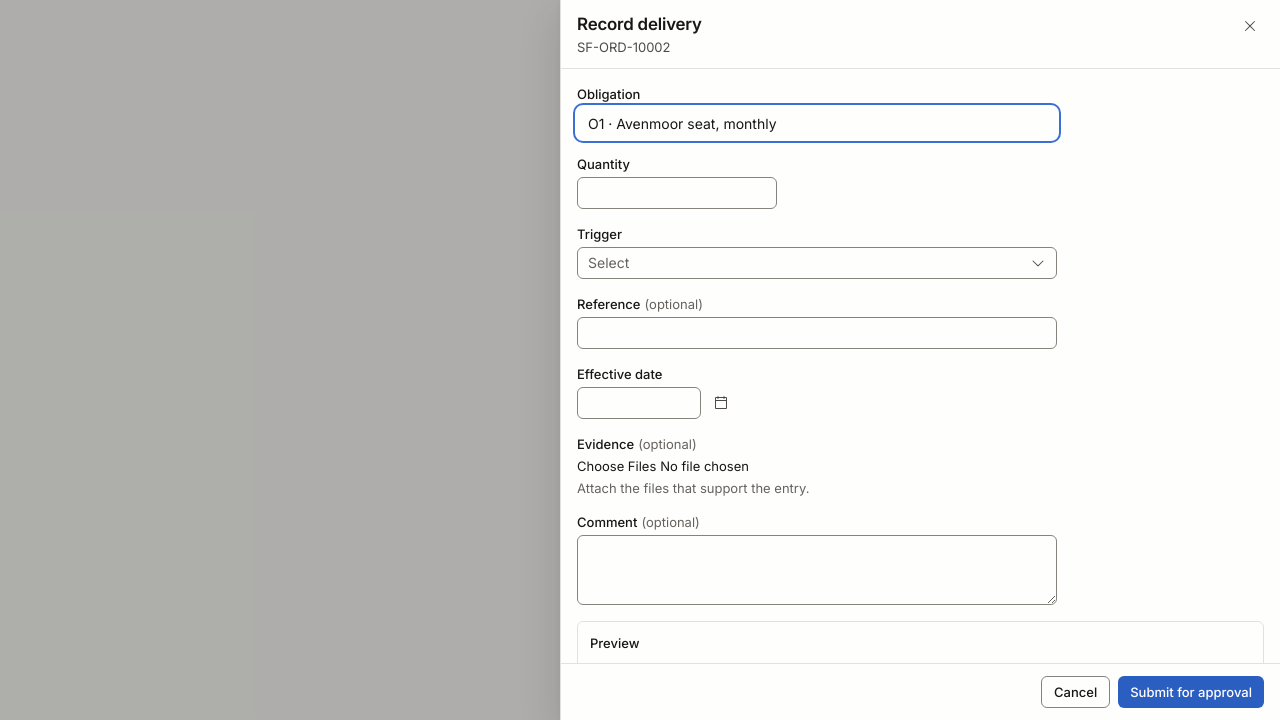
Test case: SF-03 Record event: what the preview panel says of its dry run › Retry asks for the preview of the same fields again under a new key, and the figures of the new dry run take the banner's place
Check: the element "Preview" reads "Preview The preview appears once the fields are valid.", box [577, 621, 1264, 663]
Type "120" into the field labelled "Quantity" at (677, 193), box [577, 177, 777, 209]
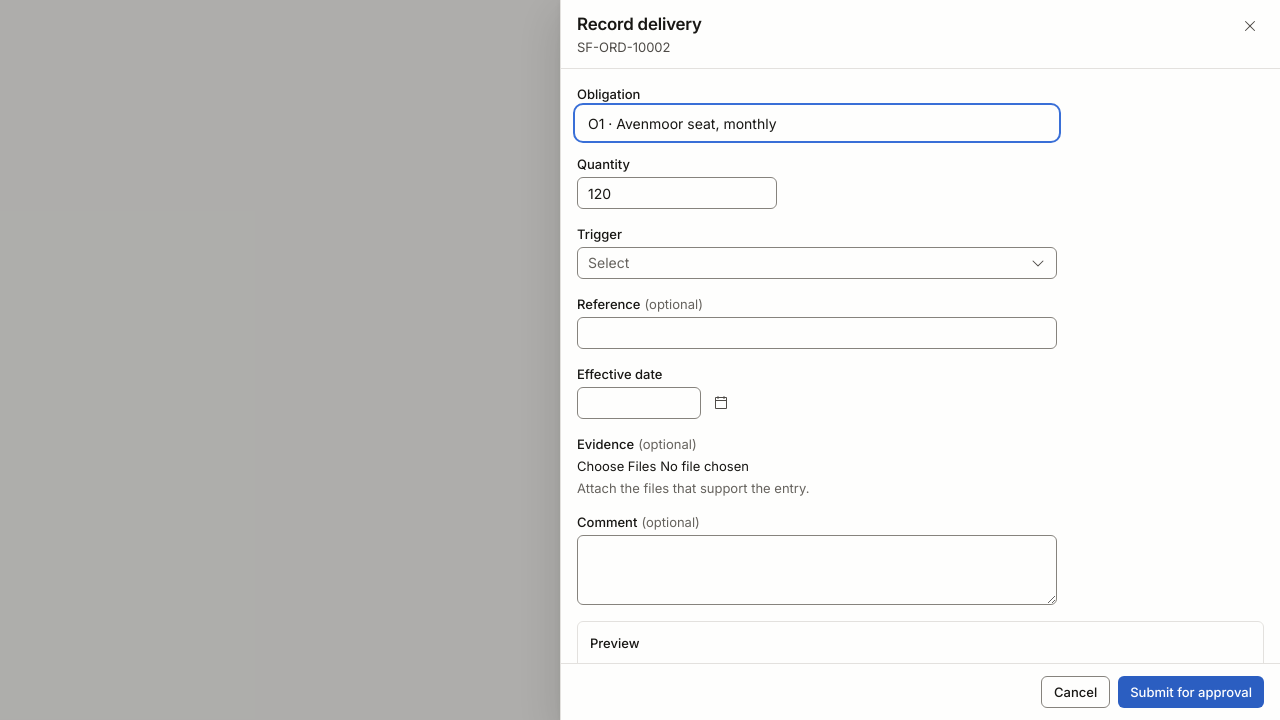
Click the dropdown named "Trigger" at (817, 263), box [577, 247, 1057, 279]
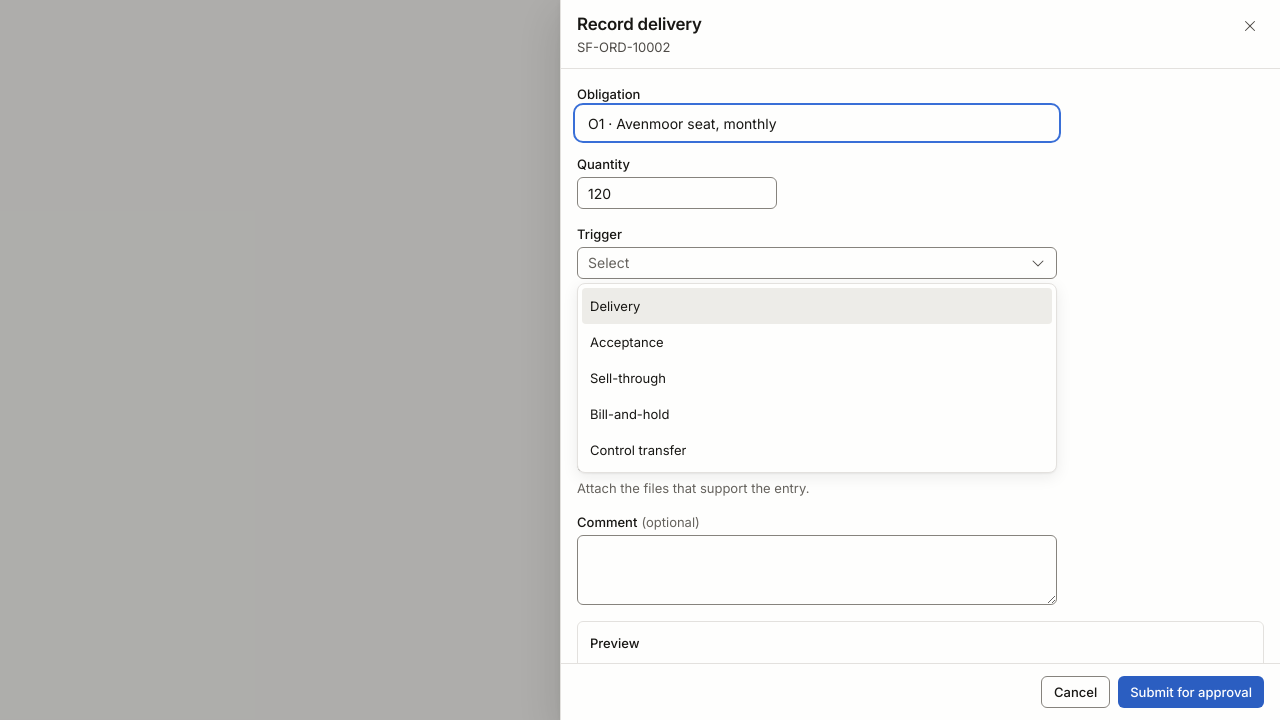
Press the mouse on the option "Delivery" at (615, 306), box [582, 288, 1052, 324]
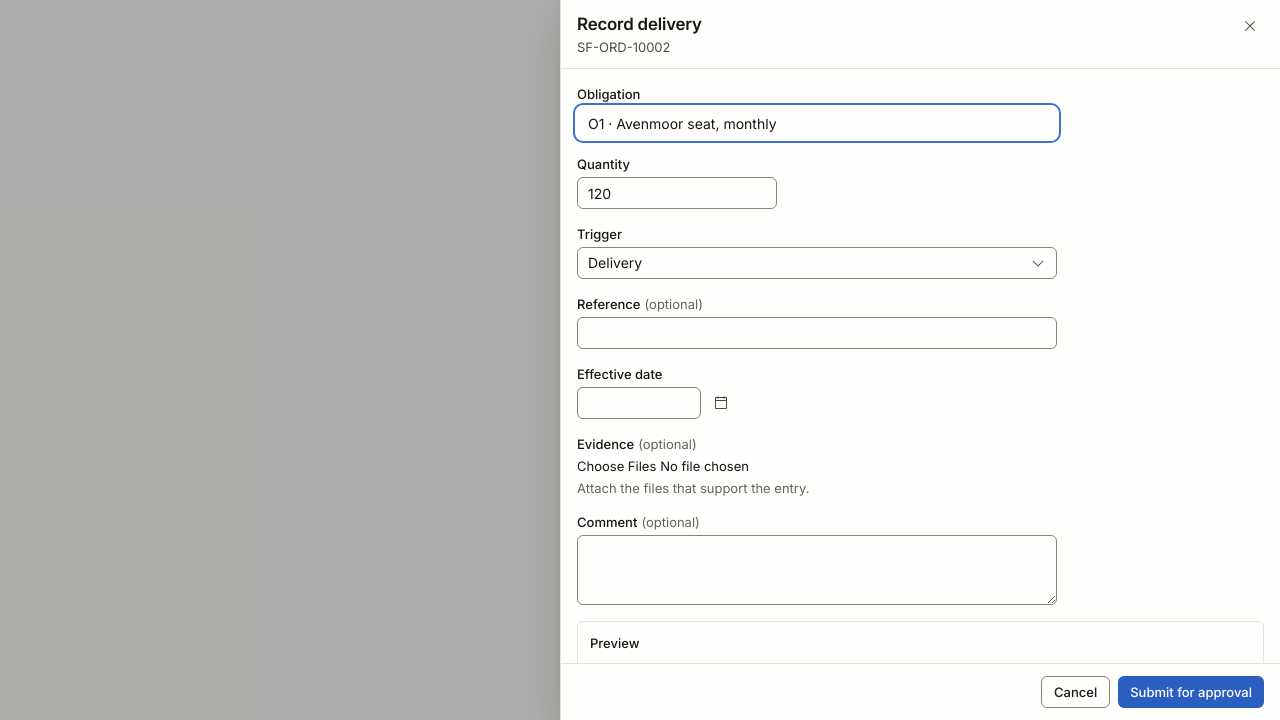
Type "30 Sep 2026" into the field labelled "Effective date" at (639, 403), box [577, 387, 701, 419]
(page scrolled)
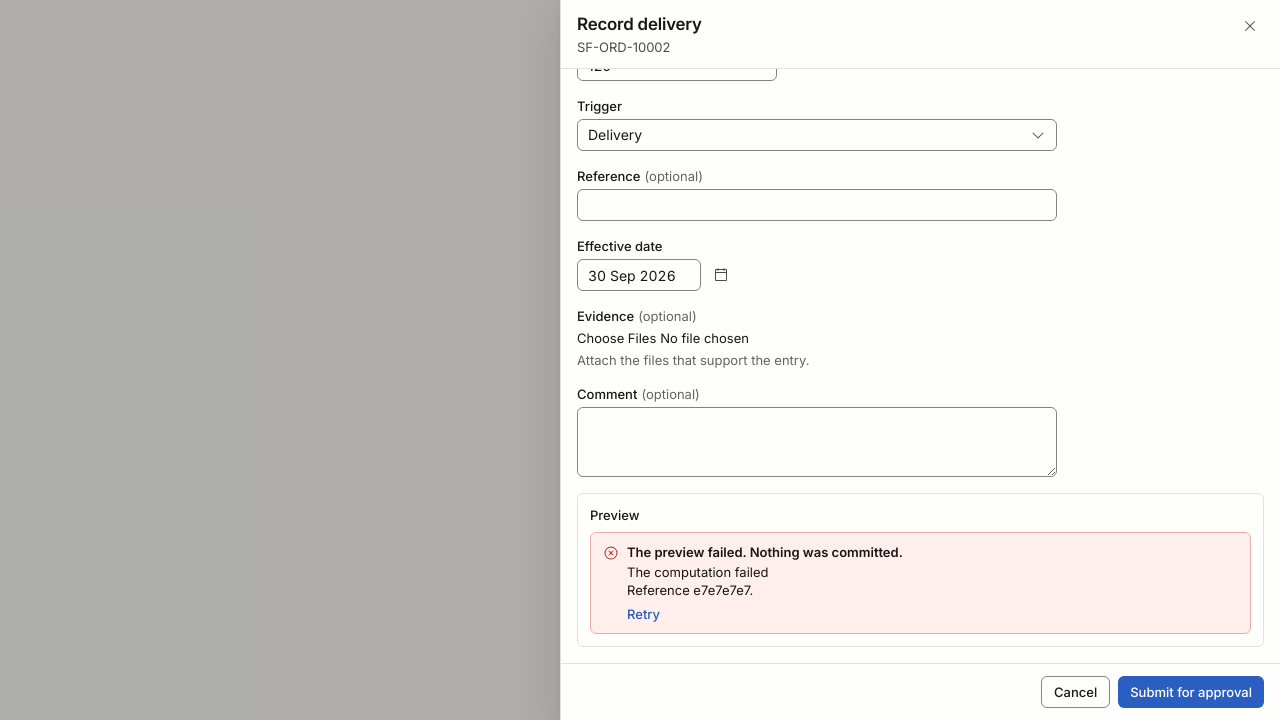
Click the button "Retry" at (644, 614), box [627, 605, 660, 623]
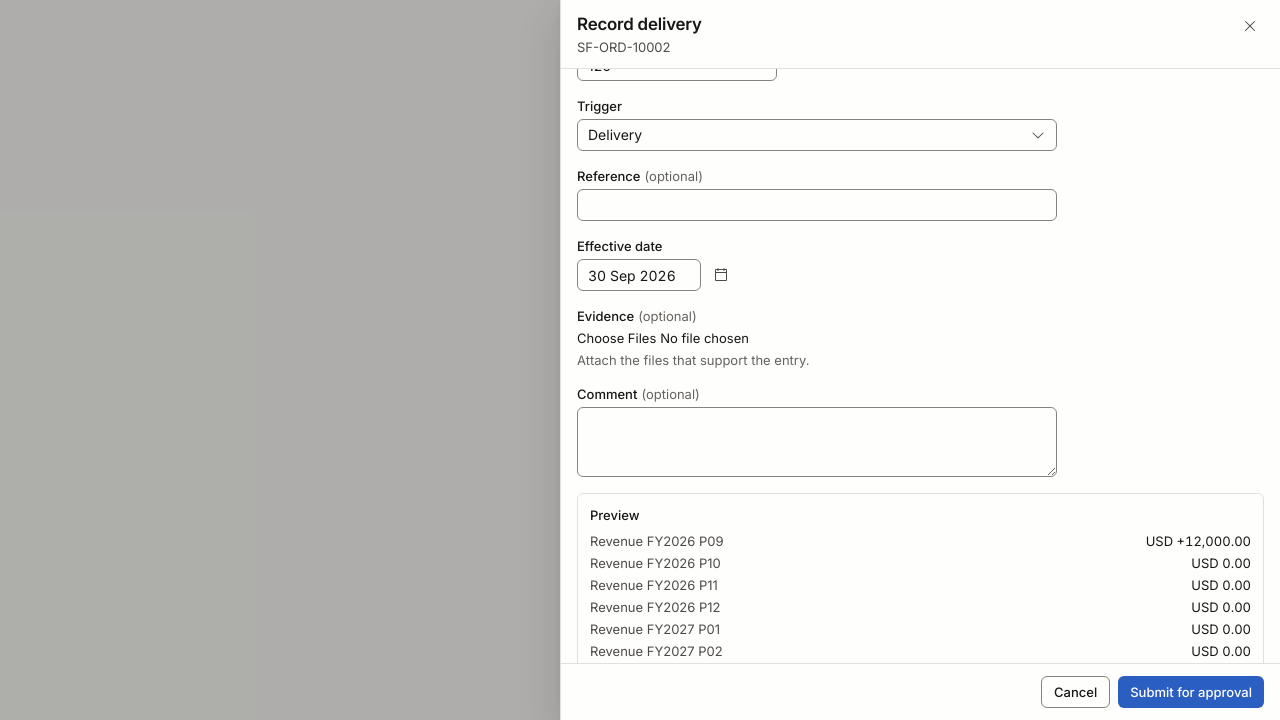
Check: the heading "The preview failed. Nothing was committed." is gone
